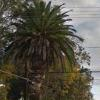Tree: (6, 0, 81, 67)
